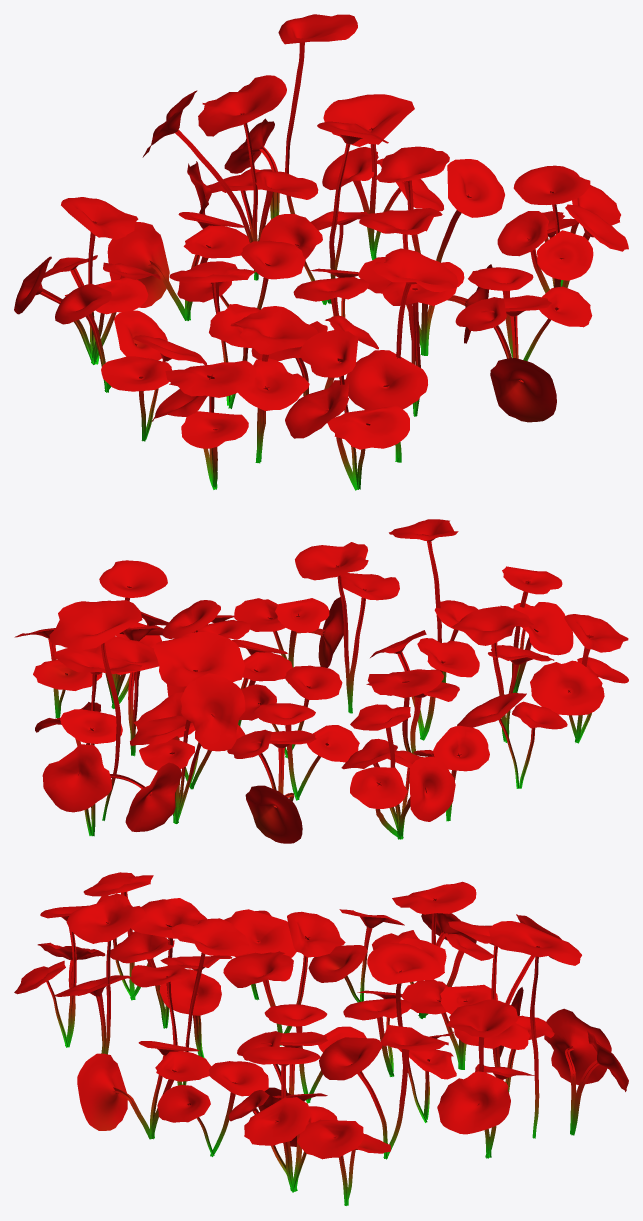
File: Native Violet_LOD0_Var1_ultkcfeja.fbx
3 views of the same model, one above another, from view 1: azimuth 30°, elevation 25°; view 2: azimuth 150°, elevation 25°; view 3: azimuth 270°, elevation 25° (orthographic). The views are drawn at different scales.
Visible parts, largest first — view 1: _afby_Var1_LOD0; view 2: _afby_Var1_LOD0; view 3: _afby_Var1_LOD0.
Boxes of the visible parts, bbox=[...] form: _afby_Var1_LOD0: bbox=[14, 14, 628, 490]; _afby_Var1_LOD0: bbox=[14, 519, 628, 843]; _afby_Var1_LOD0: bbox=[14, 872, 628, 1205].
Bounding box in the file's own units: 39.41 × 15.58 × 41.23.
